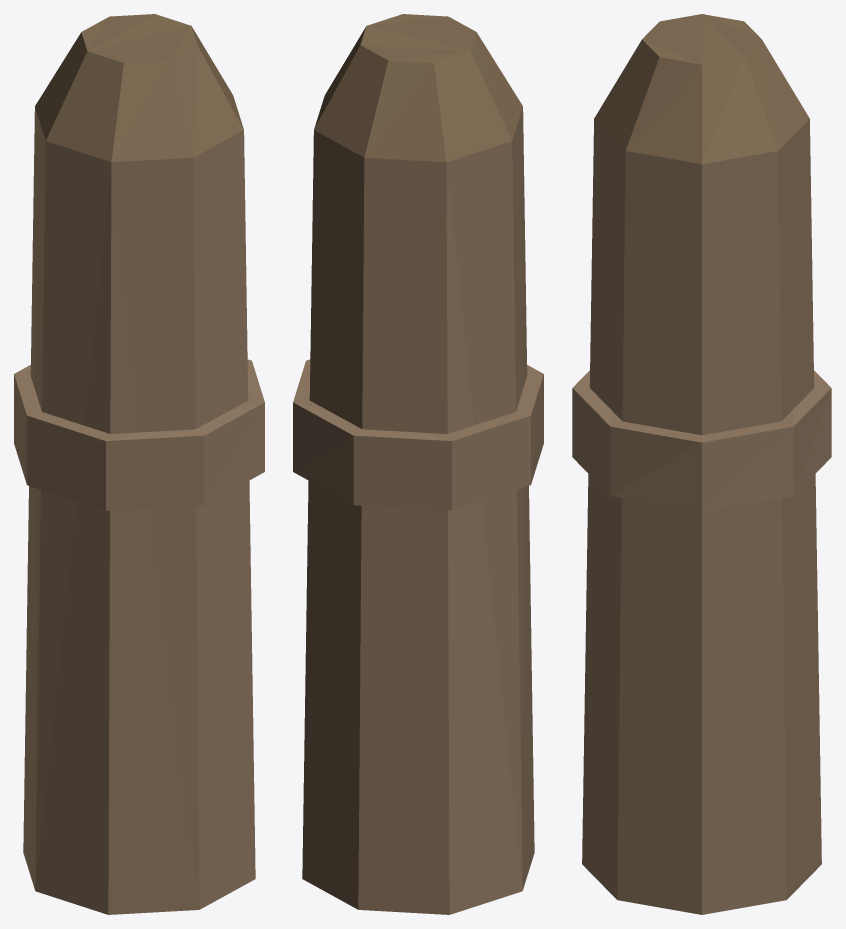
File: jetty-post-00.glb
The picture shows the model from 3 angles, left to right: view 1: azimuth 30°, elevation 25°; view 2: azimuth 150°, elevation 25°; view 3: azimuth 270°, elevation 25°; orthographic projection.
Parts seen in each view (by area): view 1: jetty_post_00; view 2: jetty_post_00; view 3: jetty_post_00.
Part boxes in pixels (box(x1,y1,x2,y2)): jetty_post_00: box(14, 14, 264, 914); jetty_post_00: box(293, 14, 543, 914); jetty_post_00: box(572, 14, 831, 914).
Bounding box in the file's own units: 0.2367 × 0.8316 × 0.2367.
